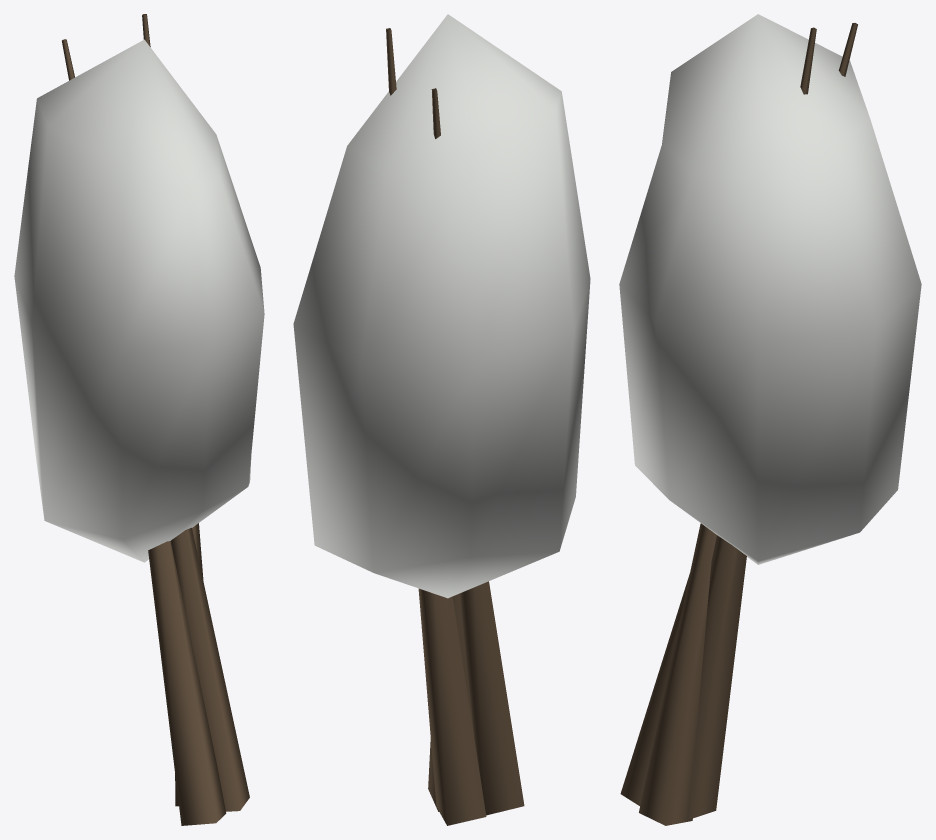
The model's file is al-lite.glb.
3 views of the same model, side by side, from view 1: azimuth 30°, elevation 25°; view 2: azimuth 150°, elevation 25°; view 3: azimuth 270°, elevation 25° (orthographic). The views are drawn at different scales.
Parts seen in each view (by area): view 1: crown, trunk; view 2: crown, trunk; view 3: crown, trunk.
Part boxes in pixels (x1,y1,x2,y2): crown: [14, 39, 264, 562]; trunk: [62, 14, 249, 825]; crown: [293, 14, 590, 598]; trunk: [386, 28, 524, 825]; crown: [619, 14, 921, 564]; trunk: [620, 23, 857, 825].
Bounding box in the file's own units: 3.64 × 11.4 × 3.96.
